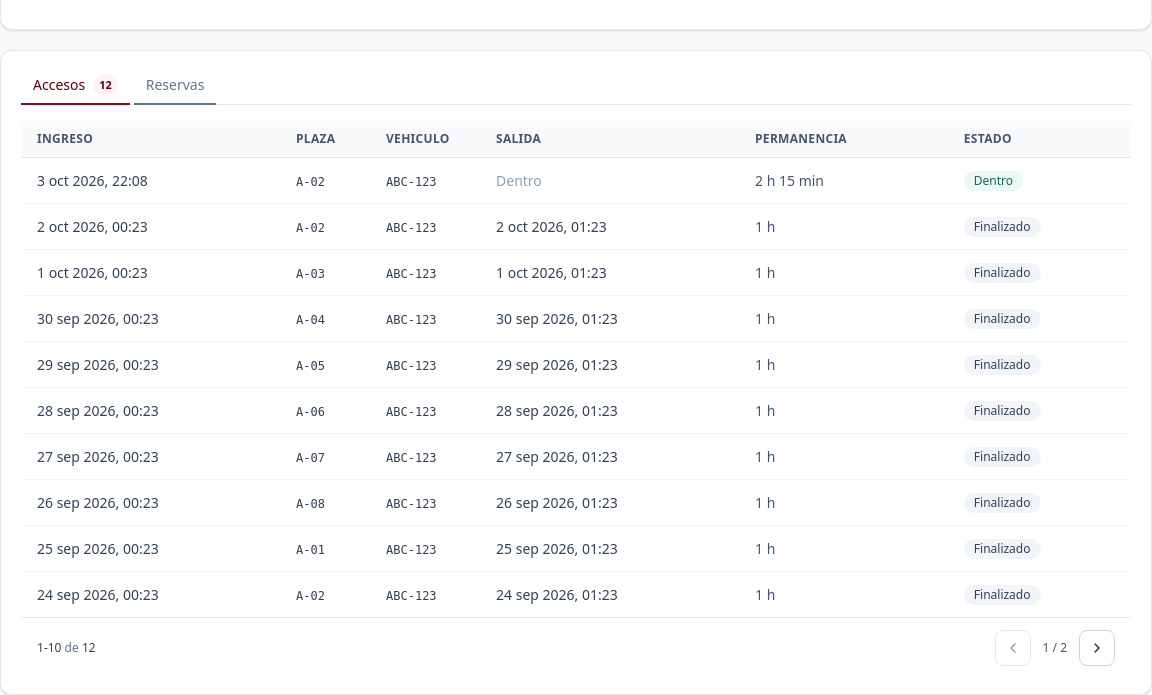
Test: UsuarioDetallePage (RFA02) › pagina el historial de accesos en el servidor
(page scrolled)
Click the button named "Pagina siguiente".
click(1097, 648)  # box [1079,630,1115,666]
(page scrolled)
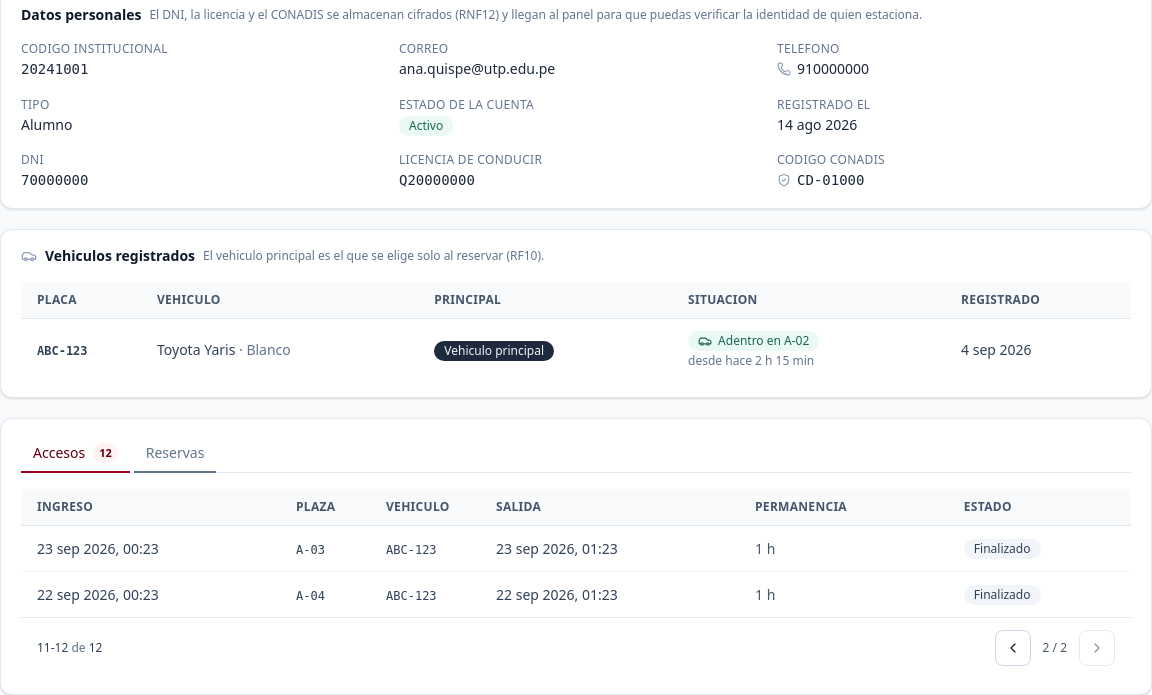
Result: the row that starts with "23 sep 2026, 00:23" is shown at [21,526,1131,572]
